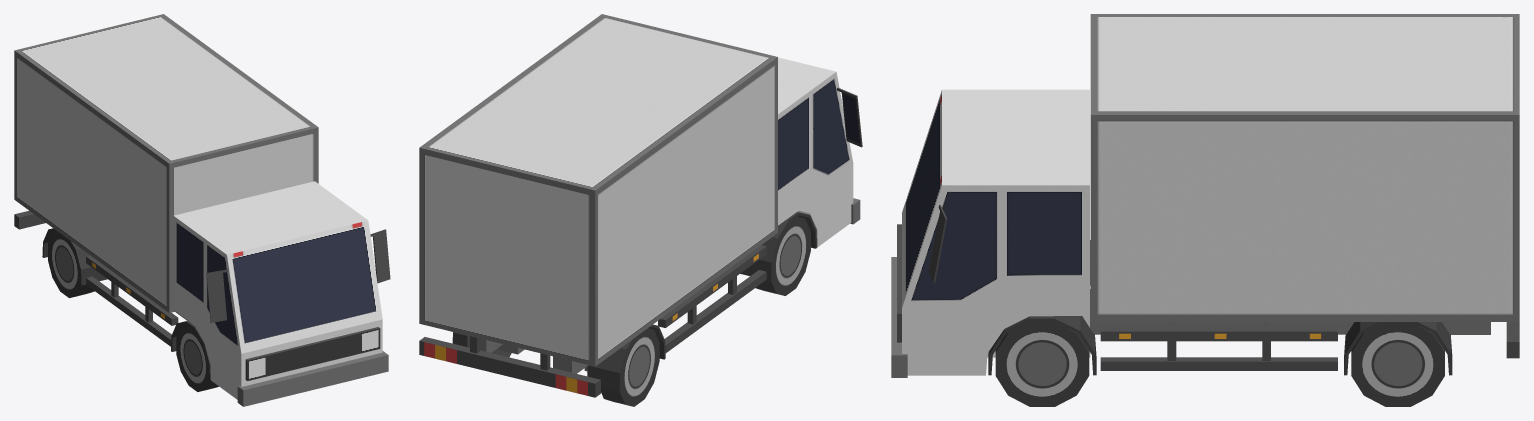
The model's file is Lorry_001.fbx.
3 views of the same model, side by side, from view 1: azimuth 30°, elevation 25°; view 2: azimuth 150°, elevation 25°; view 3: azimuth 270°, elevation 25° (orthographic). The views are drawn at different scales.
Visible parts, largest first — view 1: Lorry_001; view 2: Lorry_001; view 3: Lorry_001.
Part boxes in pixels (x1=…): Lorry_001: x1=14, y1=14, x2=390, y2=406; Lorry_001: x1=419, y1=14, x2=862, y2=406; Lorry_001: x1=891, y1=14, x2=1519, y2=406.
Size of the model in its own units: 328 by 373 by 717.
